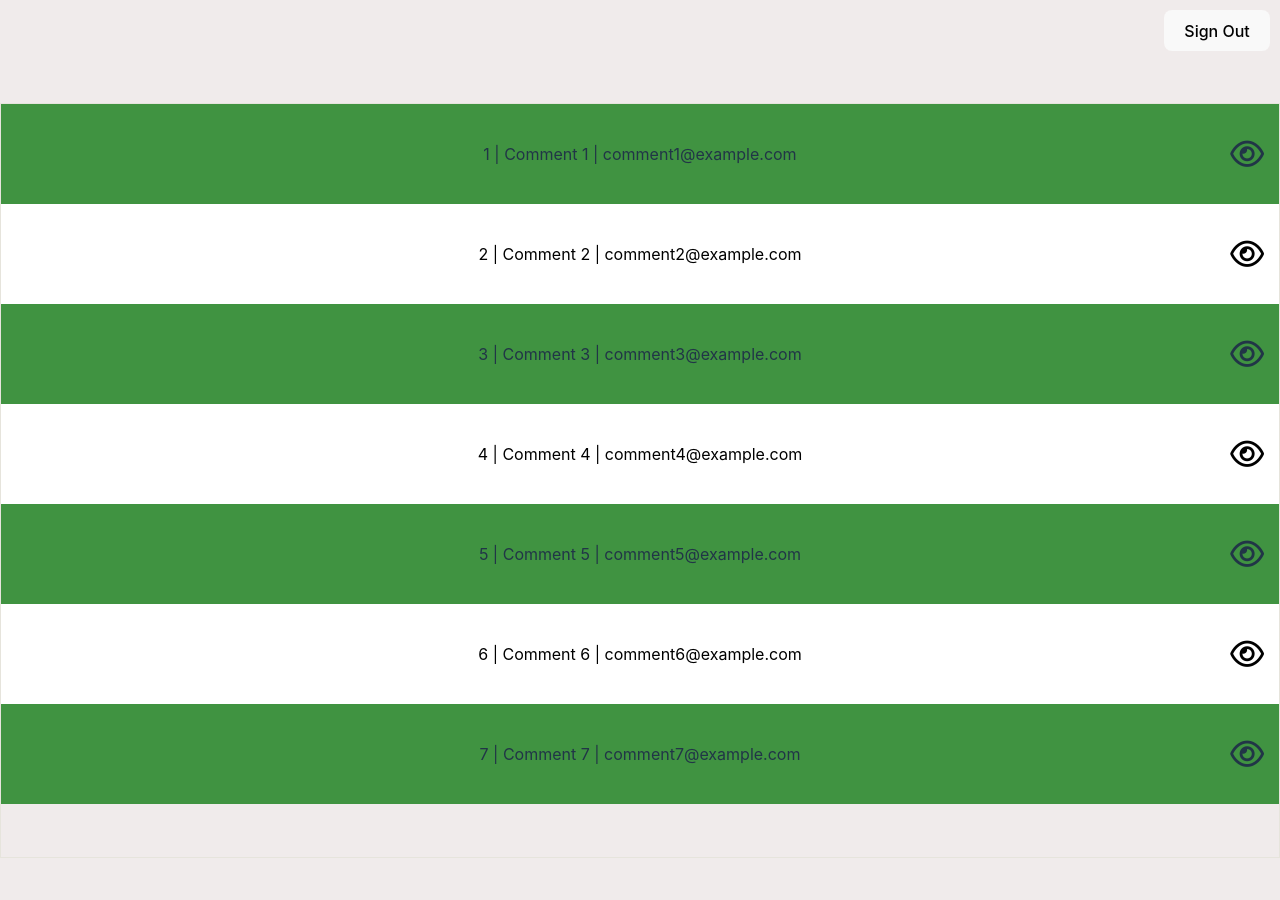
it: DashboardPage › opens modal with comment details on click
The width and height of the screenshot is (1280, 900).
Click the text "1 | Comment 1 | comment1@example.com" at (640, 154), box [483, 142, 797, 166]
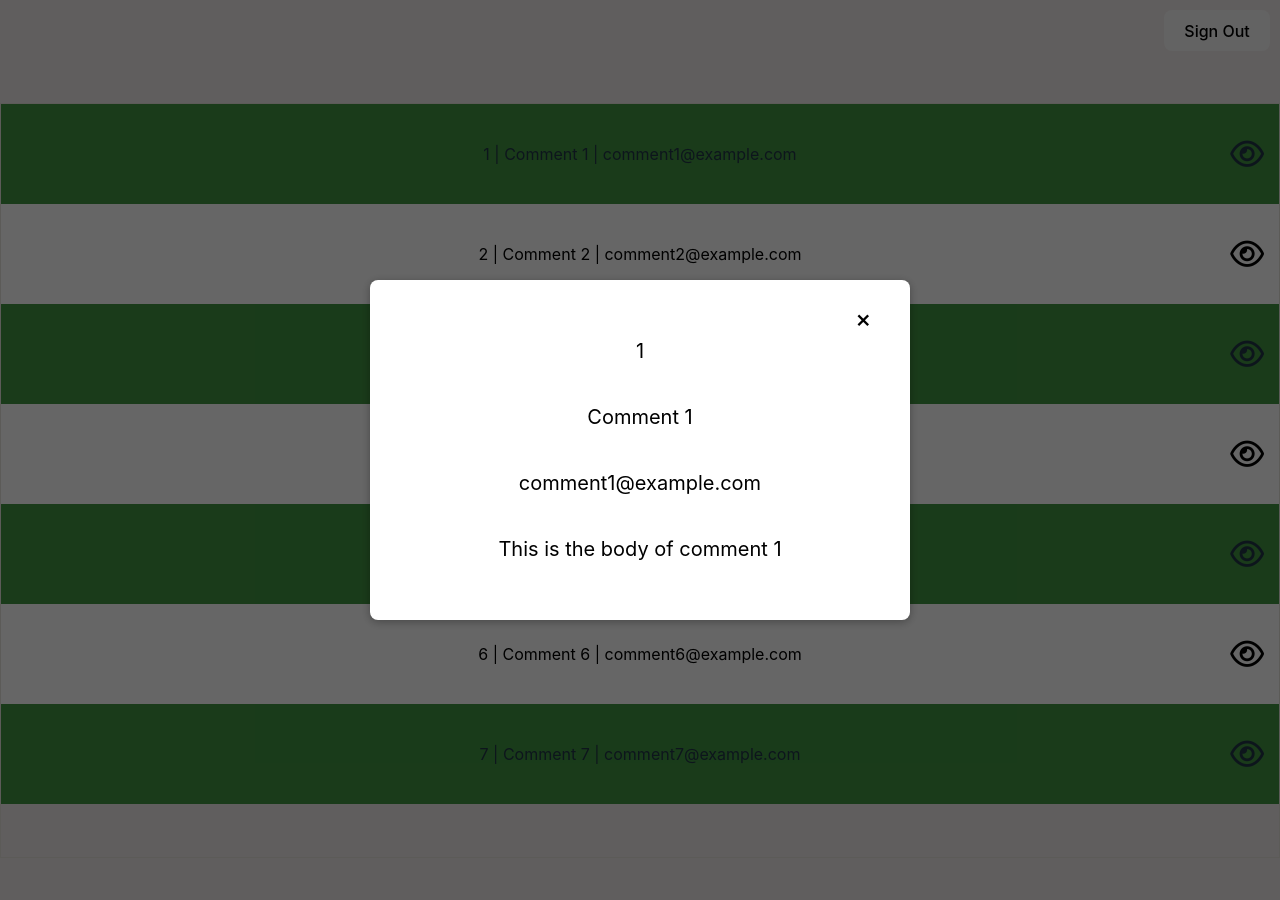
Check: the text "This is the body of comment 1" is shown, box [498, 537, 782, 561]
Check: the text "comment1@example.com" is shown, box [519, 471, 761, 495]
